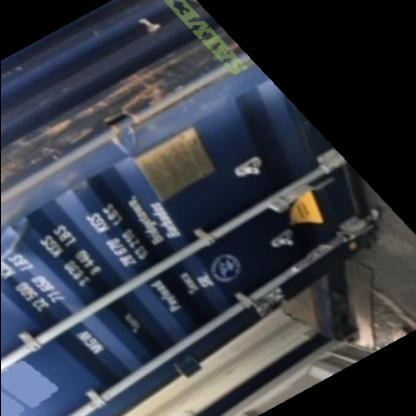Damage: (80, 45, 224, 147), (1, 127, 67, 208)
